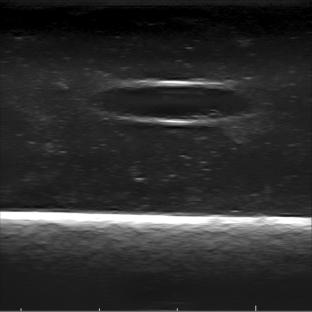vessel: (94, 79, 258, 126)
